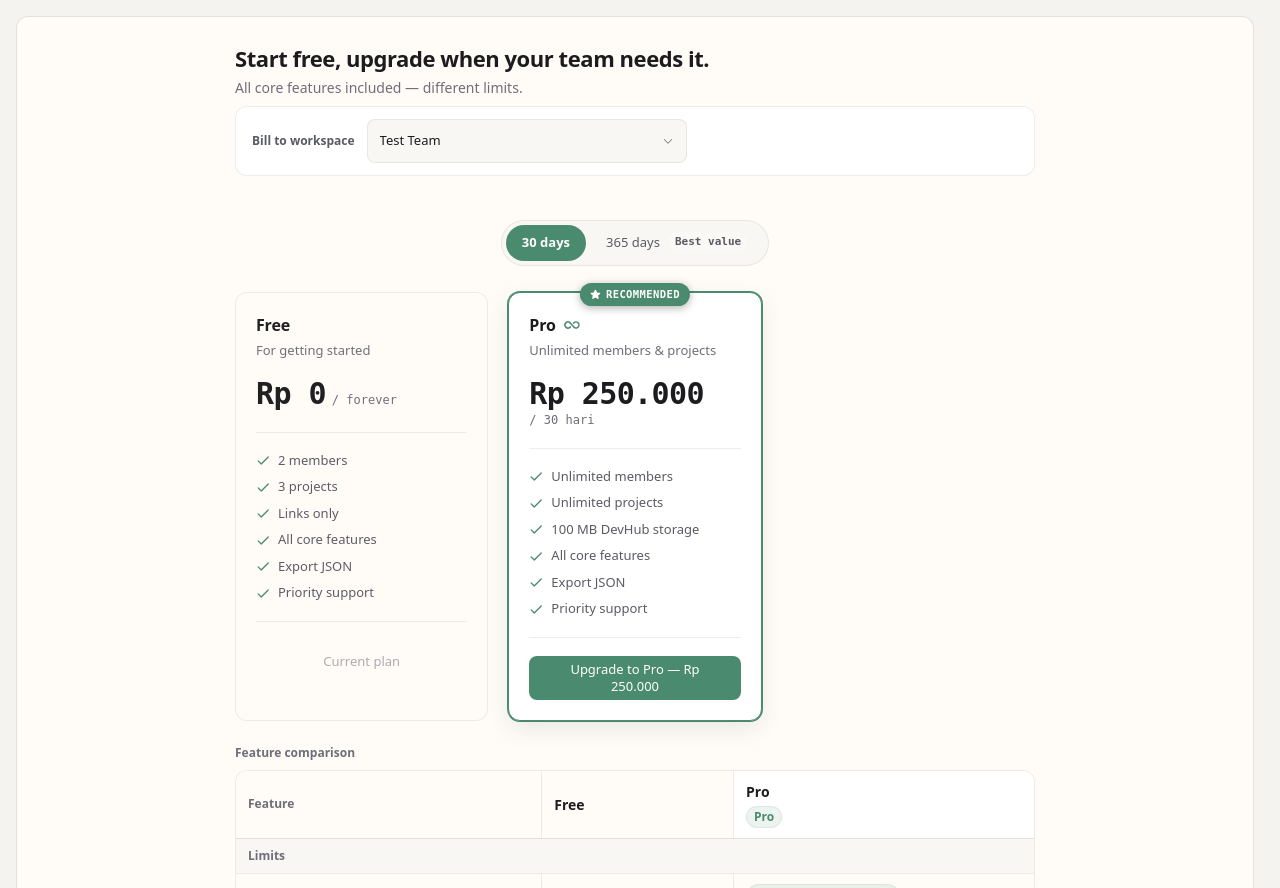
Scenario: PricingPage (single-page flow) › opens a confirm modal without creating the order
Expected: the heading "Pro" is shown, [529,314,580,336]
Click the button "Upgrade to Pro — Rp 250.000" at [635, 678], box [529,656,741,700]
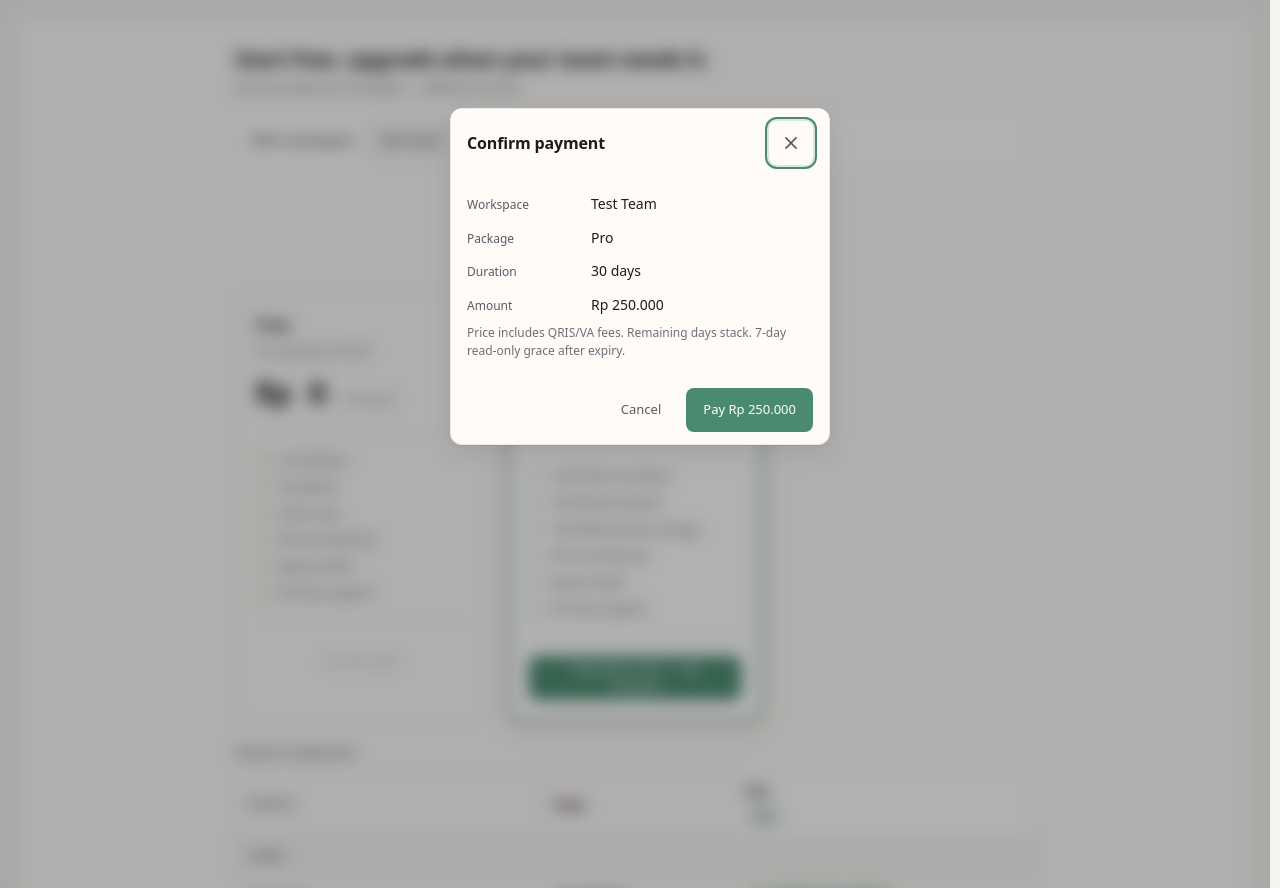
Expected: the heading "Confirm payment" is shown, [467,133,605,153]
